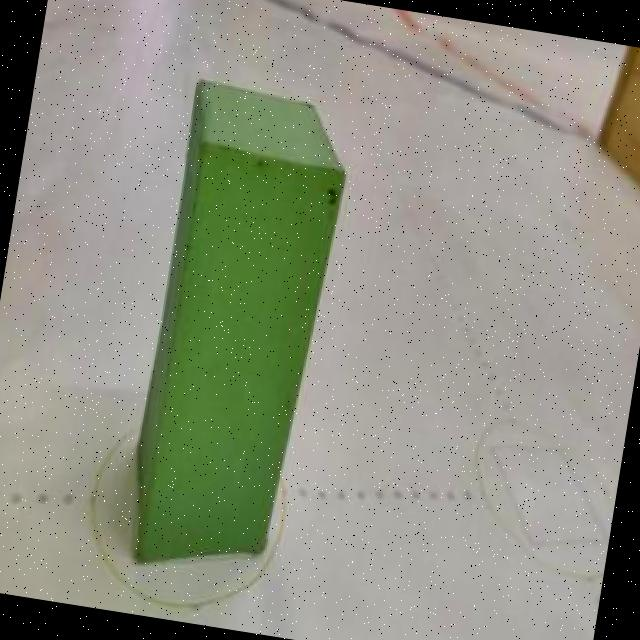greenbox: (116, 76, 358, 584)
